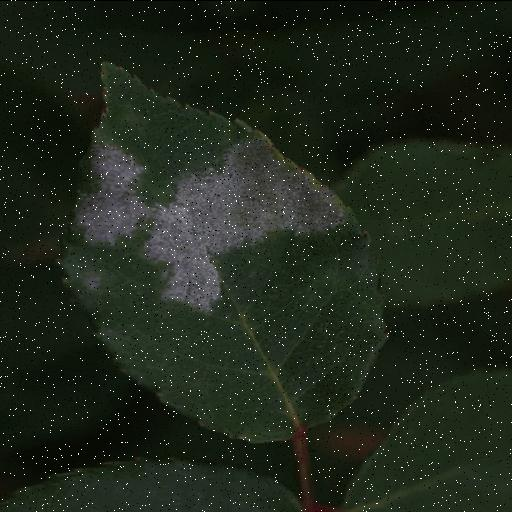powdery_mildew: (59, 63, 386, 440)
